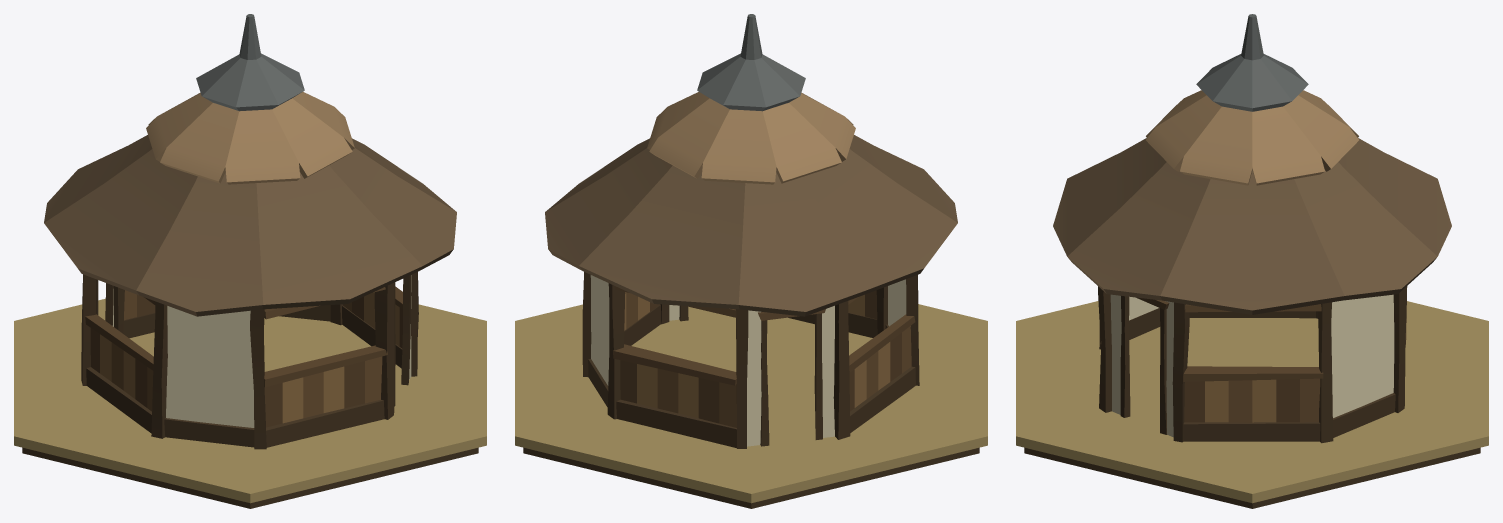
File: treehouse.glb
3 renders of one model, left to right at view 1: azimuth 30°, elevation 25°; view 2: azimuth 150°, elevation 25°; view 3: azimuth 270°, elevation 25°, orthographic.
Visible parts, largest first — view 1: base, platform, mid, house, columns, skirting, top, panels_2, windowSill, panels_1, doorFrame1, panels_3 (+1 smaller); view 2: platform, base, mid, columns, house, skirting, top, panels_4, windowSill, panels_1, doorFrame0, panels_3 (+1 smaller); view 3: platform, base, mid, house, columns, panels_3, skirting, top, windowSill, doorFrame1.
Boxes of the visible parts, box(x1,y1,x2,y2) form: base: box(44, 135, 456, 316); platform: box(14, 298, 486, 508); mid: box(146, 92, 354, 184); house: box(112, 275, 411, 427); columns: box(81, 272, 418, 449); skirting: box(86, 305, 402, 447); top: box(196, 14, 304, 111); panels_2: box(264, 356, 382, 427); windowSill: box(85, 286, 402, 387); panels_1: box(90, 328, 153, 411); doorFrame1: box(394, 275, 411, 406); panels_3: box(343, 292, 402, 348); platform: box(515, 304, 987, 508); base: box(545, 135, 957, 316); mid: box(647, 92, 855, 184); columns: box(582, 272, 919, 448); house: box(590, 275, 906, 446); skirting: box(588, 304, 915, 448); top: box(697, 14, 805, 111); panels_4: box(620, 360, 736, 427); windowSill: box(613, 286, 915, 385); panels_1: box(849, 326, 911, 411); doorFrame0: box(758, 309, 825, 446); panels_3: box(624, 292, 659, 330); platform: box(1016, 301, 1488, 508); base: box(1053, 138, 1451, 314); mid: box(1146, 90, 1358, 185); house: box(1110, 294, 1394, 437); columns: box(1098, 286, 1406, 443); panels_3: box(1184, 378, 1320, 422); skirting: box(1129, 308, 1395, 441); top: box(1196, 14, 1308, 111); windowSill: box(1100, 286, 1407, 381); doorFrame1: box(1120, 296, 1169, 434).
Size of what is drawn, in the model's own units: 8 by 6.18 by 6.93.
Materials: 1 (1 with a texture image).
